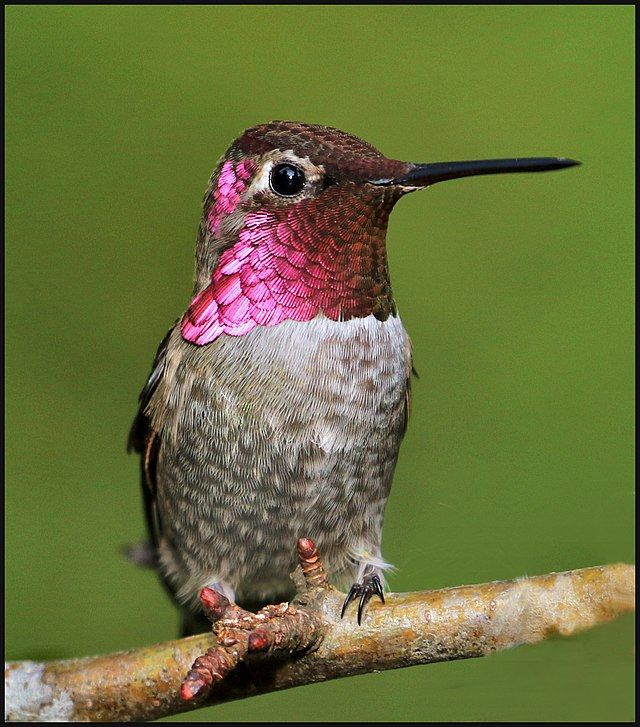calypte anna: (124, 115, 578, 635)
